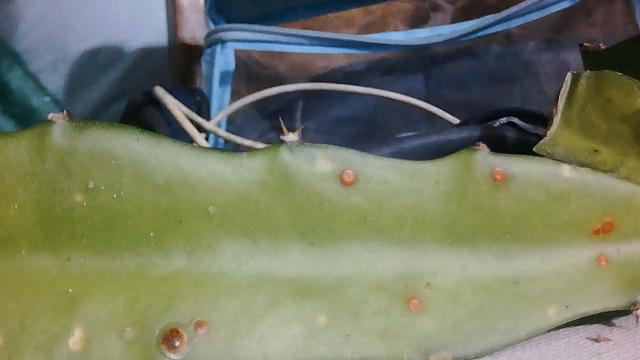stemcanker: (152, 323, 189, 359), (329, 161, 363, 195), (485, 158, 517, 190), (588, 212, 621, 243), (398, 289, 430, 319), (187, 315, 213, 343), (594, 245, 614, 274)
